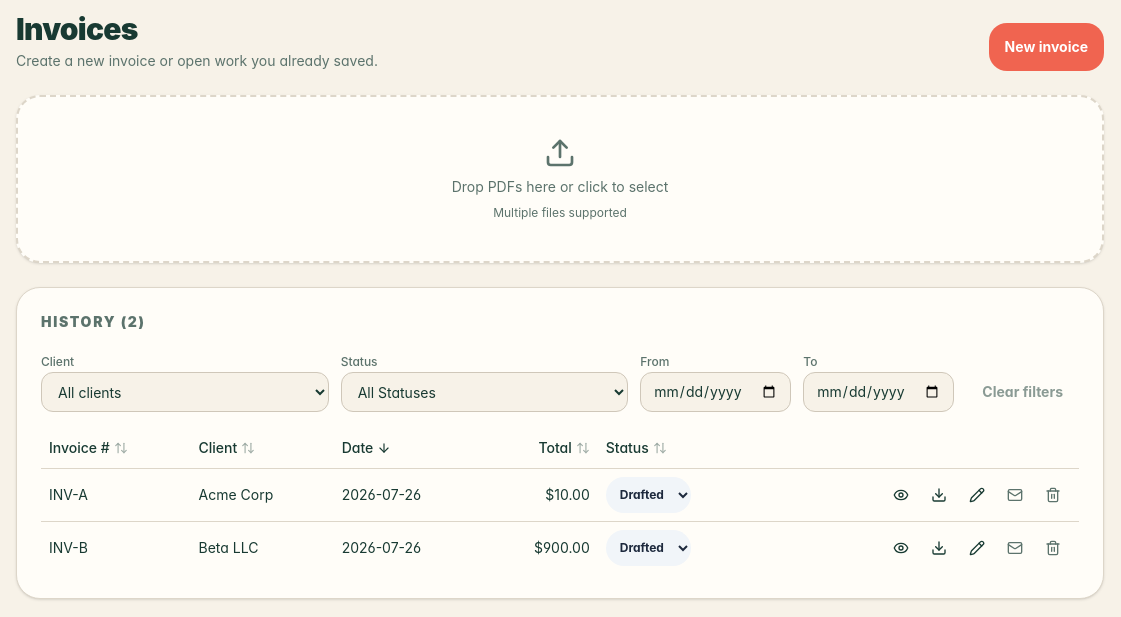
Test: InvoicesPage history actions › sorts by a column header and filters by client
Click the button "Total" at (564, 448), box [538, 430, 590, 466]
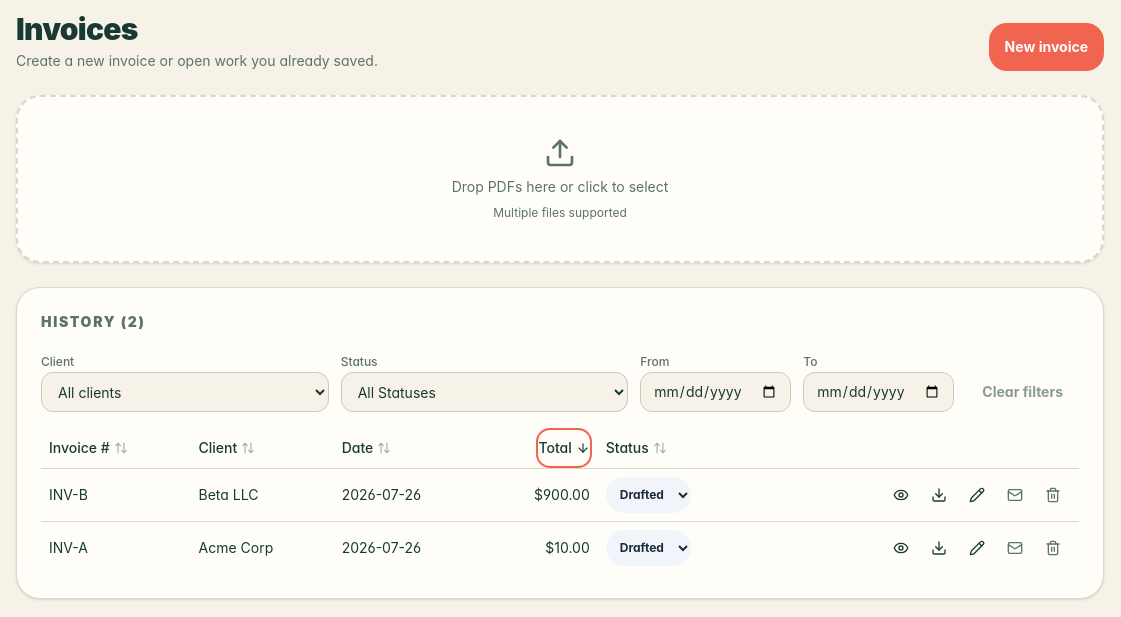
Click the button "Total" at (564, 448), box [538, 430, 590, 466]
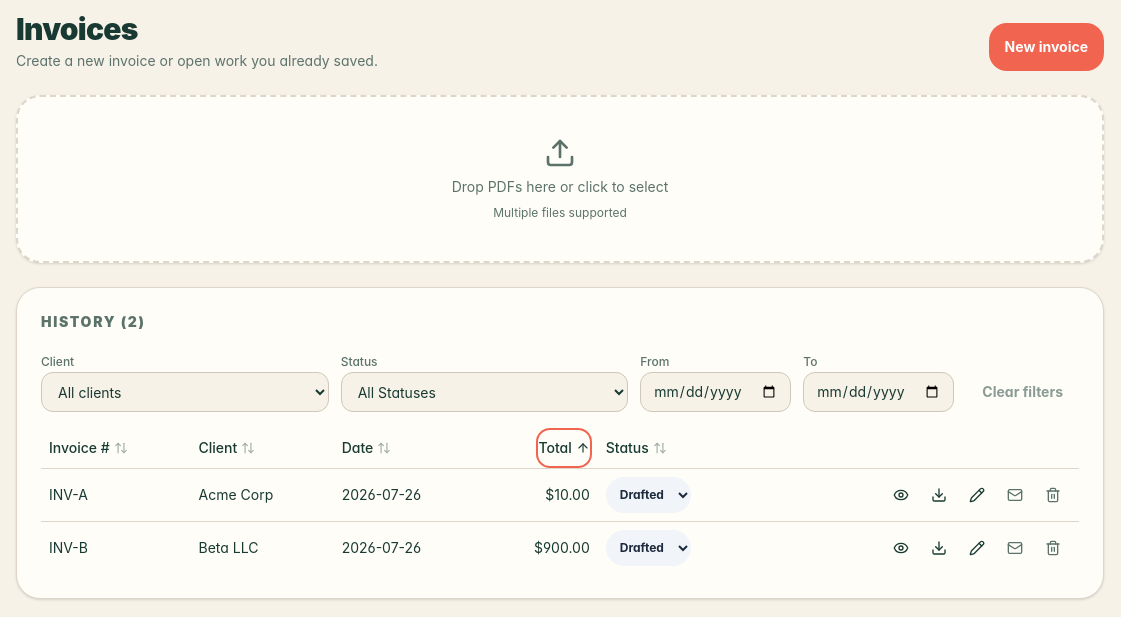
Select "Beta LLC" in the dropdown labelled "Client" at (185, 392), box [41, 372, 329, 412]
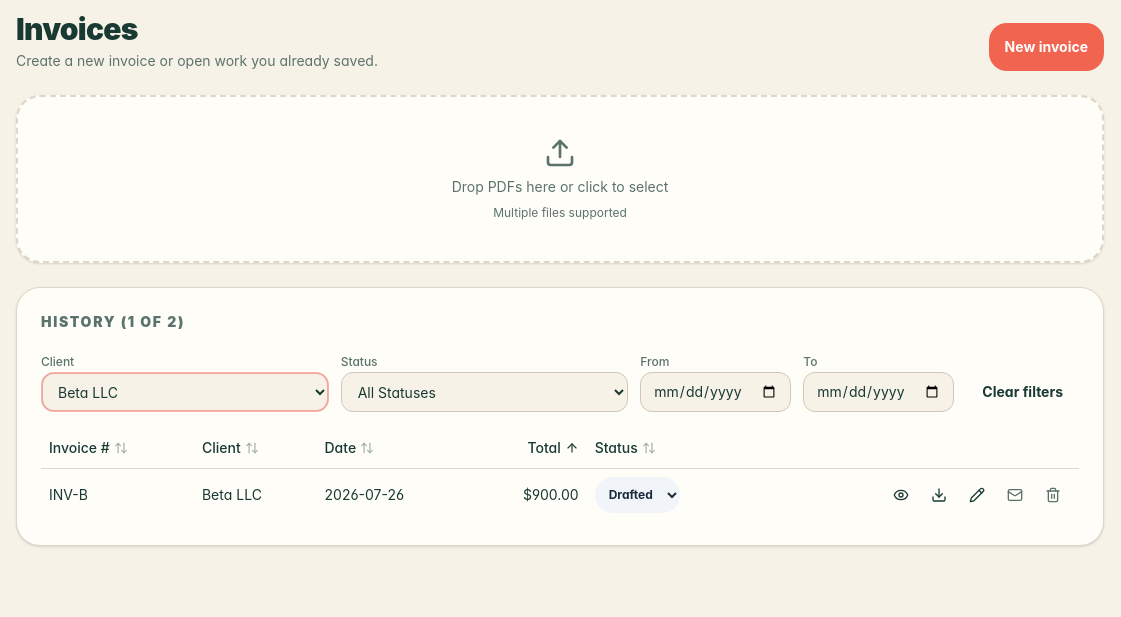
Result: the heading "History (1 of 2)" is shown at [41, 313, 185, 330]
Result: the text "INV-A" is gone
